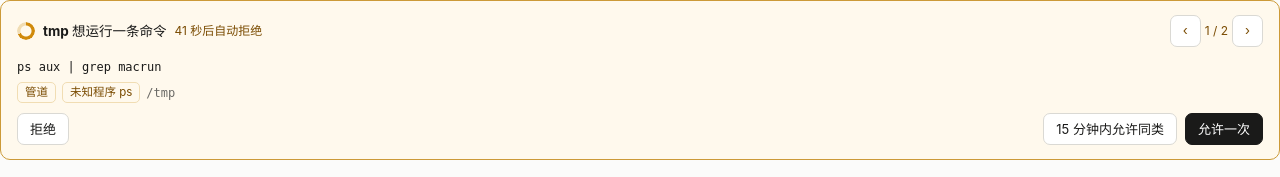
Test: desktop approvals name the tier and the compact prompt pages through requests
Expected: the text "1 / 2" is shown, [1170, 15, 1263, 47]
Click the button named "下一条待确认": coordinates (1248, 31) [1232, 15, 1263, 47]
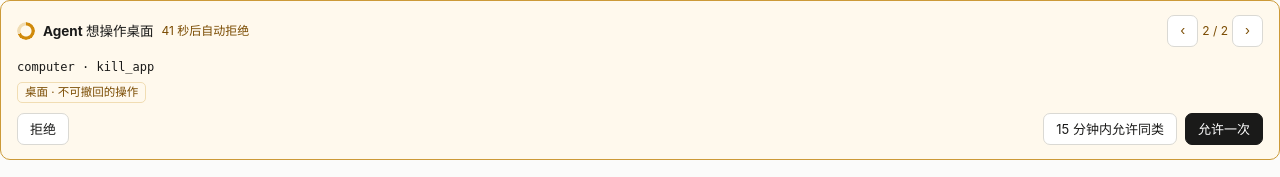
Expected: the text "computer · kill_app" is shown, [17, 60, 154, 74]
Expected: the text "桌面 · 不可撤回的操作" is shown, [17, 82, 146, 103]
Expected: the text "Agent 想操作桌面" is shown, [43, 21, 153, 41]
Click the button named "上一条待确认": coordinates (1183, 31) [1167, 15, 1198, 47]
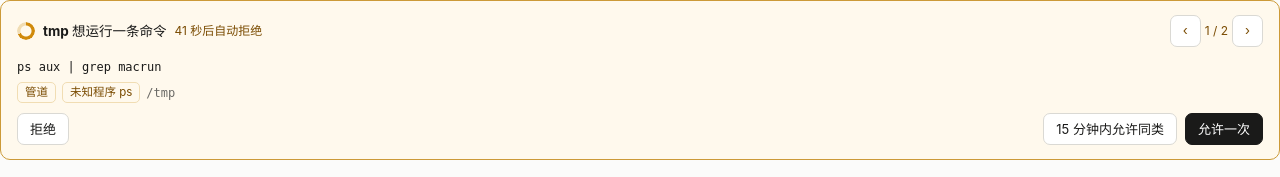
Expected: the text "ps aux | grep macrun" is shown, [17, 60, 162, 74]
